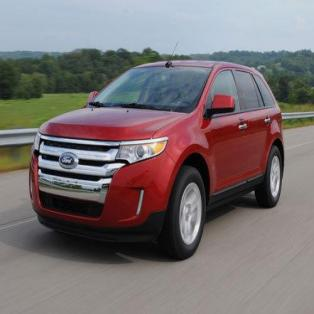Auto: (28, 39, 286, 262)
